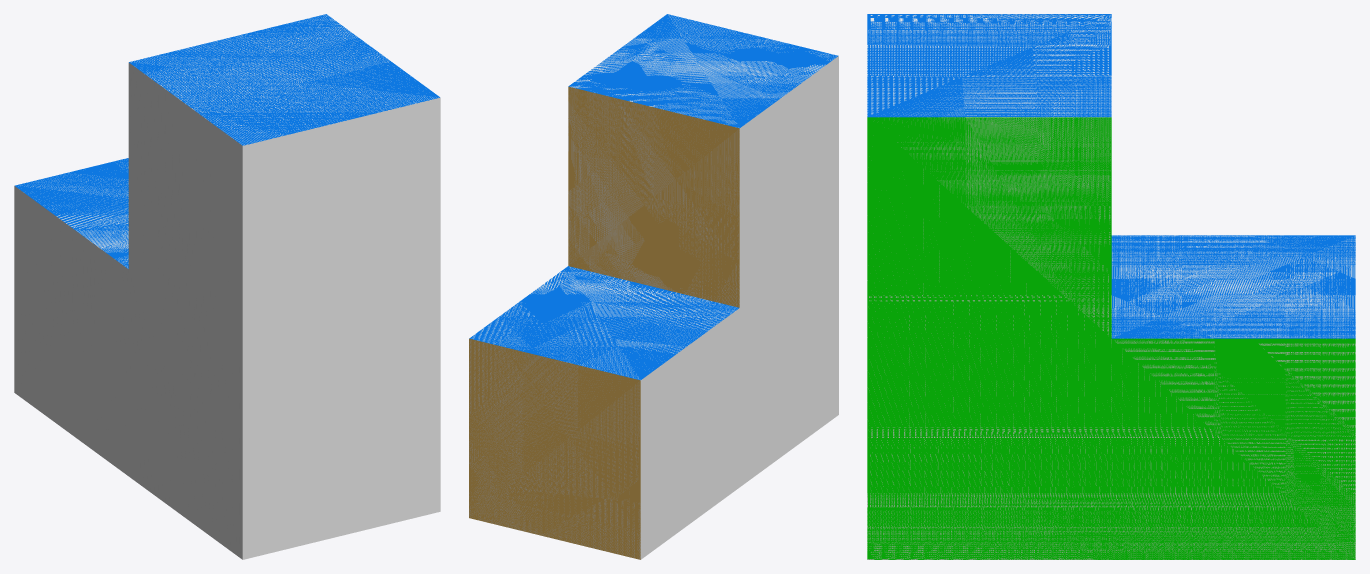
Rendered from Figura2.dae.
3 renders of one model, left to right at view 1: azimuth 30°, elevation 25°; view 2: azimuth 150°, elevation 25°; view 3: azimuth 270°, elevation 25°, orthographic. The views are drawn at different scales.
Parts seen in each view (by area): view 1: SketchUp (×3); view 2: SketchUp (×5); view 3: SketchUp (×3).
Boxes of the visible parts, x1,y1,x2,y2 form: SketchUp (×3): (14,14,440,559); SketchUp (×5): (469,14,838,559); SketchUp (×3): (867,14,1355,559).
Size of the model in its own units: 15.75 by 31.5 by 31.5.
